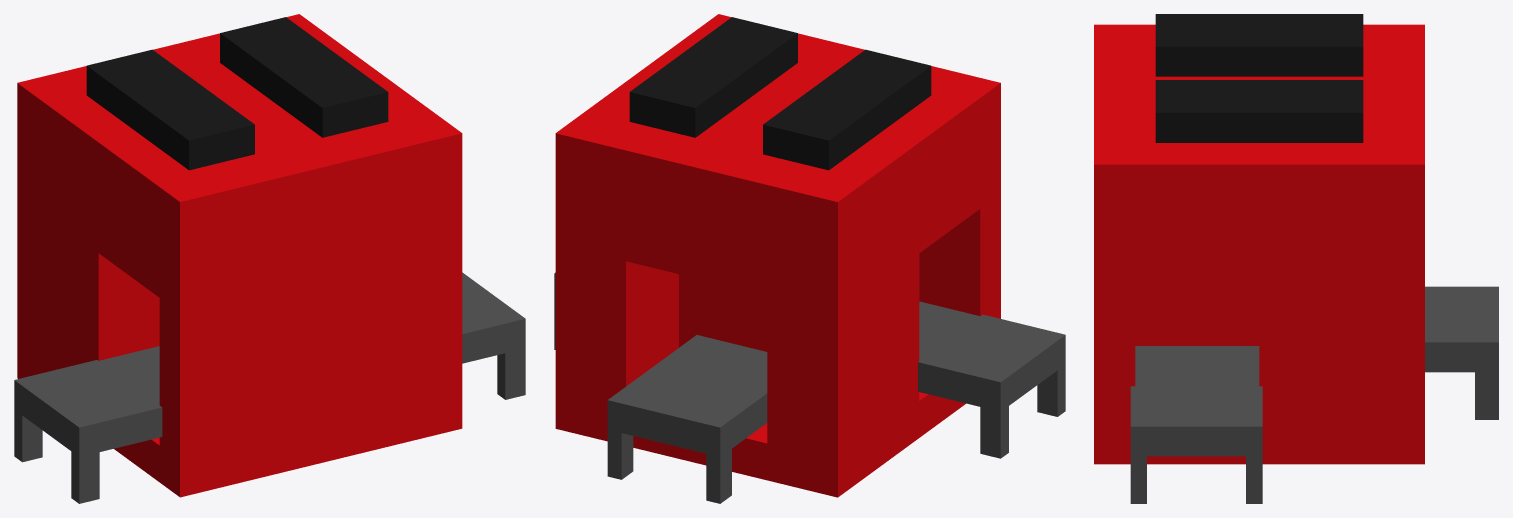
File: Factory_3.dae
The picture shows the model from 3 angles, left to right: view 1: azimuth 30°, elevation 25°; view 2: azimuth 150°, elevation 25°; view 3: azimuth 270°, elevation 25°; orthographic projection.
Visible parts, largest first — view 1: Cube, Cube.005, Cube.002, Cube.006, Cube.003; view 2: Cube, Cube.004, Cube.005, Cube.002, Cube.006; view 3: Cube, Cube.003, Cube.006, Cube.002, Cube.004.
Boxes of the visible parts, box(x1,y1,x2,y2) form: Cube: box(17, 14, 462, 497); Cube.005: box(14, 346, 162, 503); Cube.002: box(220, 17, 388, 137); Cube.006: box(86, 49, 254, 170); Cube.003: box(462, 272, 525, 399); Cube: box(555, 14, 1000, 497); Cube.004: box(607, 335, 767, 503); Cube.005: box(918, 301, 1065, 458); Cube.002: box(629, 17, 797, 137); Cube.006: box(763, 49, 931, 170); Cube: box(1094, 24, 1424, 464); Cube.003: box(1130, 346, 1262, 503); Cube.006: box(1155, 14, 1363, 76); Cube.002: box(1155, 80, 1363, 142); Cube.004: box(1425, 286, 1498, 419).
Bounding box in the file's own units: 3.16 × 2.45 × 2.2.
